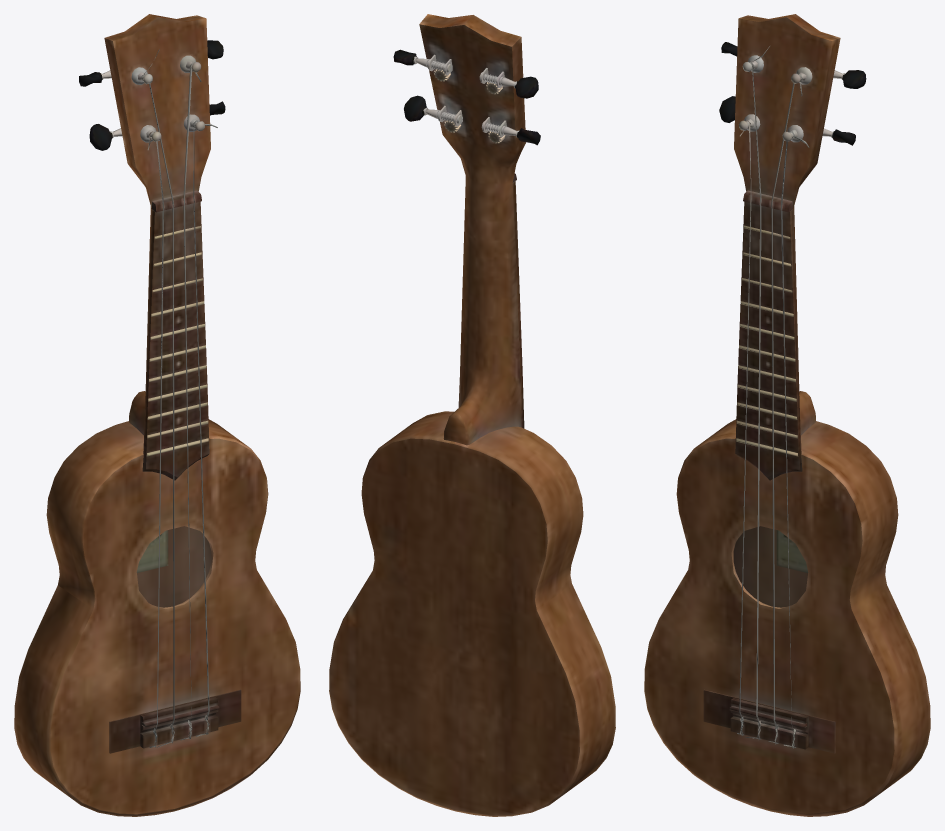
Rendered from ph_ukulele_01.glb.
The picture shows the model from 3 angles, left to right: view 1: azimuth 30°, elevation 25°; view 2: azimuth 150°, elevation 25°; view 3: azimuth 330°, elevation 25°; orthographic projection.
Visible parts, largest first — view 1: Ukulele_01; view 2: Ukulele_01; view 3: Ukulele_01.
Boxes of the visible parts, left/top/right/bottom form: Ukulele_01: left=14, top=14, right=300, bottom=816; Ukulele_01: left=329, top=14, right=615, bottom=816; Ukulele_01: left=644, top=14, right=930, bottom=816.
Size of the model in its own units: 0.1779 by 0.527 by 0.0507.
Materials: 1 (1 with a texture image).
